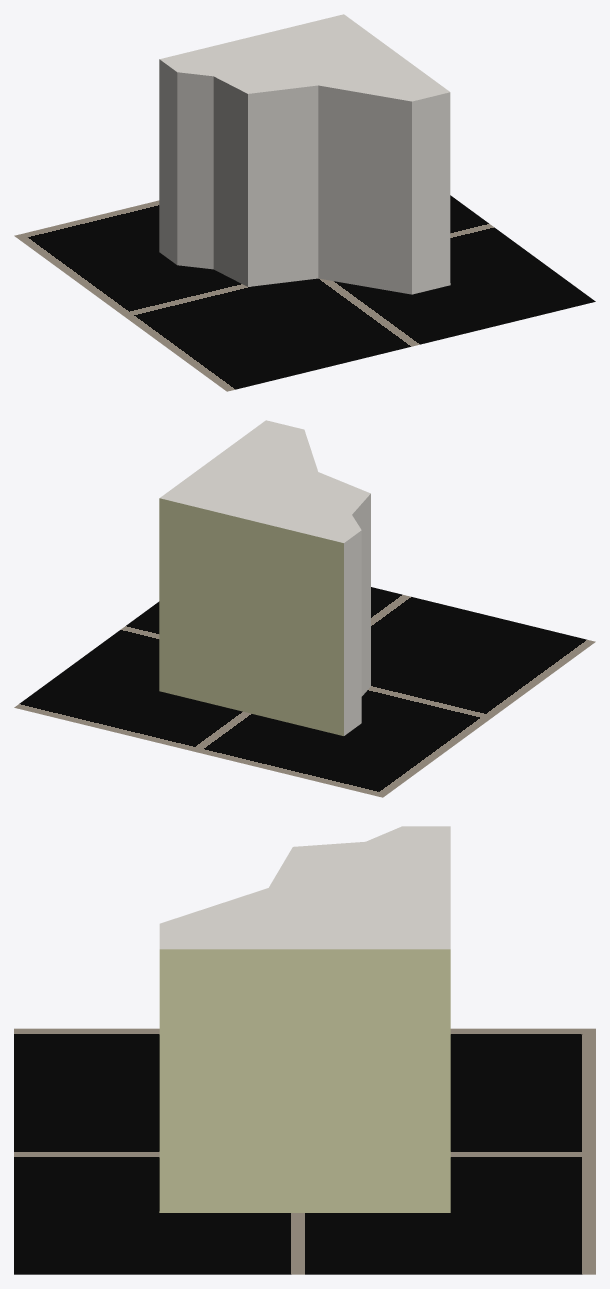
File: Cracked_Curve_Outer_2x2_1_Mid.glb
The picture shows the model from 3 angles, top to bottom: view 1: azimuth 30°, elevation 25°; view 2: azimuth 150°, elevation 25°; view 3: azimuth 270°, elevation 25°; orthographic projection. The views are drawn at different scales.
Visible parts, largest first — view 1: Cracked_Curve_Outer_2x2_1_Mid, Floor; view 2: Cracked_Curve_Outer_2x2_1_Mid, Floor; view 3: Cracked_Curve_Outer_2x2_1_Mid, Floor.
Part boxes in pixels (bbox=[...]): Cracked_Curve_Outer_2x2_1_Mid: bbox=[159, 14, 450, 294]; Floor: bbox=[14, 195, 595, 391]; Cracked_Curve_Outer_2x2_1_Mid: bbox=[159, 420, 370, 735]; Floor: bbox=[14, 587, 595, 797]; Cracked_Curve_Outer_2x2_1_Mid: bbox=[159, 826, 450, 1212]; Floor: bbox=[14, 1028, 595, 1274].
Size of the model in its own units: 200 by 100 by 200.
3 materials, 1 textured.
